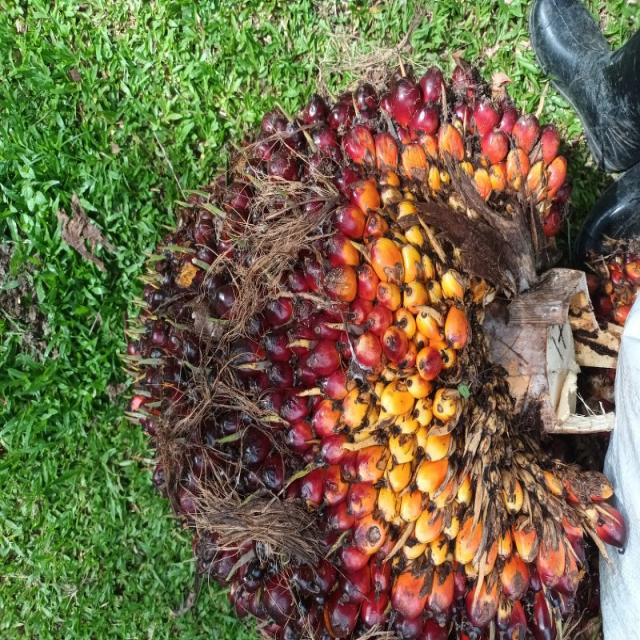fraksi 1: (122, 72, 640, 620)
